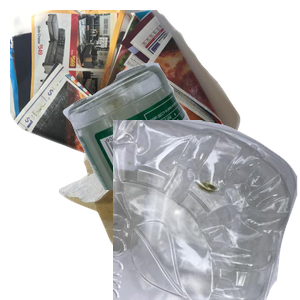glass: (60, 60, 300, 240)
paper: (10, 10, 250, 190)
plastic: (113, 120, 300, 300)
trash: (56, 120, 247, 300)
